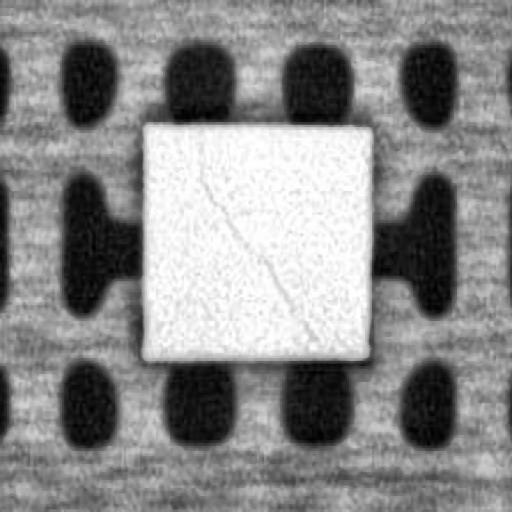DIE_CRACK: (197, 156, 317, 337)
